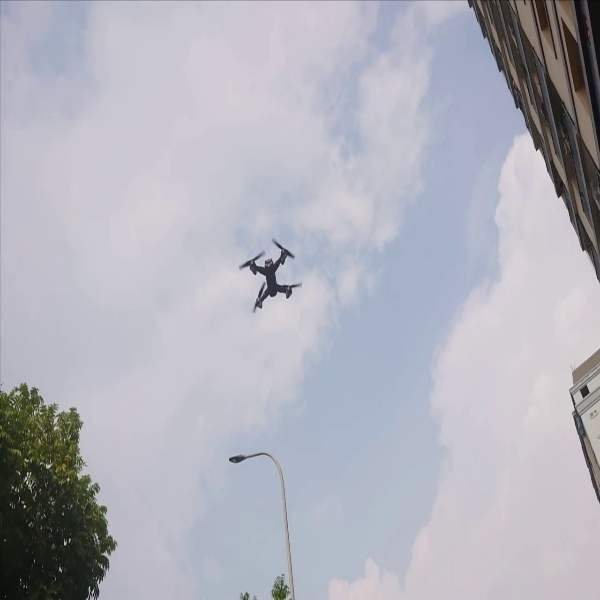drone: (232, 236, 307, 314)
